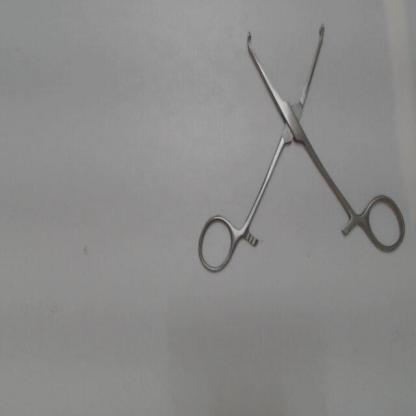Allis Tissue Forceps: (192, 13, 412, 283)
